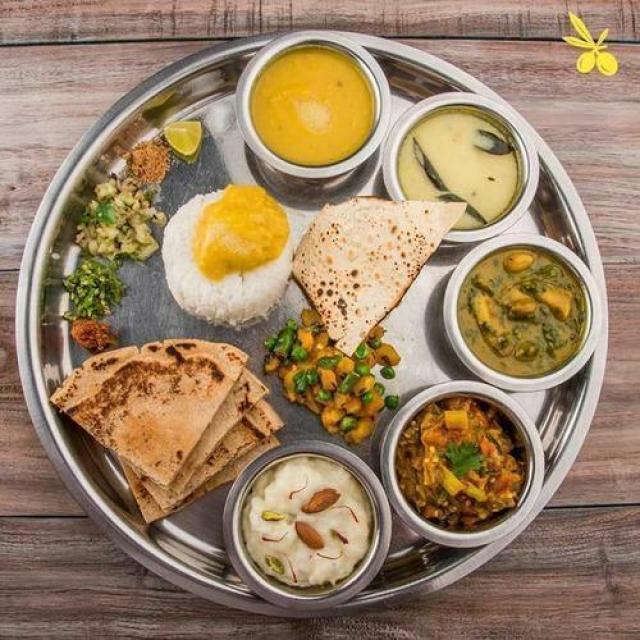dal: (242, 35, 392, 183), (397, 109, 529, 225)
papad: (293, 194, 450, 330)
roti: (55, 333, 268, 480), (291, 197, 451, 324)
sweet: (235, 450, 379, 588)
veg-fry: (451, 241, 592, 377), (393, 397, 535, 530)
